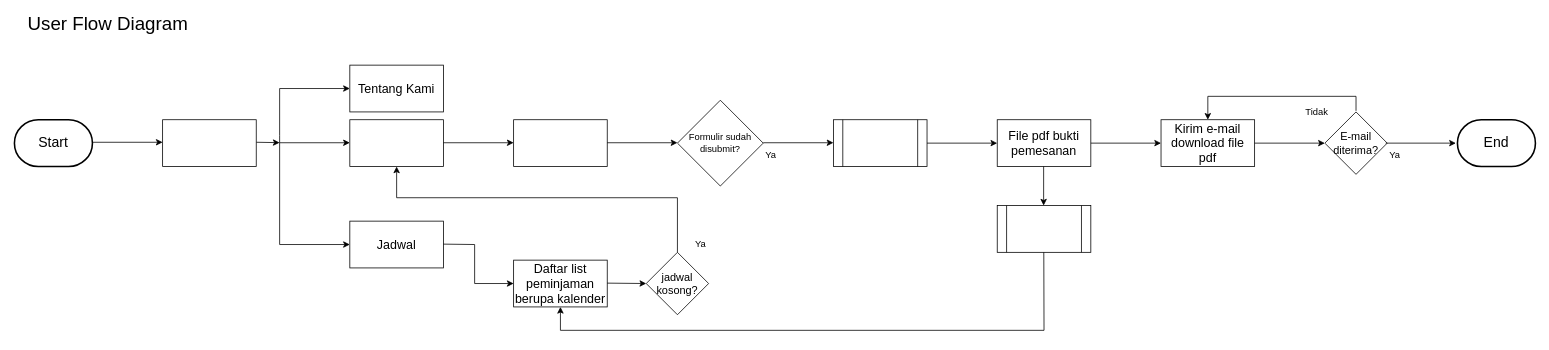
The diagram is 1549 pixels wide and 350 high, and some of its shapes have lost their labels. The centre of each missing label's shape, as x and y in pixels:
"Beranda" belongs at point 209,143.
"Mengisi Formulir" belongs at point 560,143.
"Pemesanan" belongs at point 396,143.
"Proses pemesanan" belongs at point 880,143.
"Simpan di database" belongs at point 1043,228.
